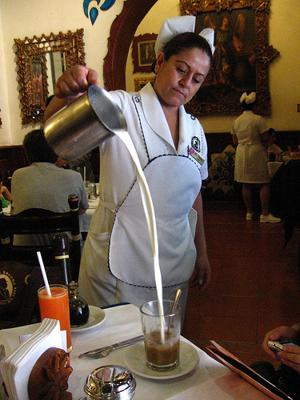person: (44, 15, 216, 332)
